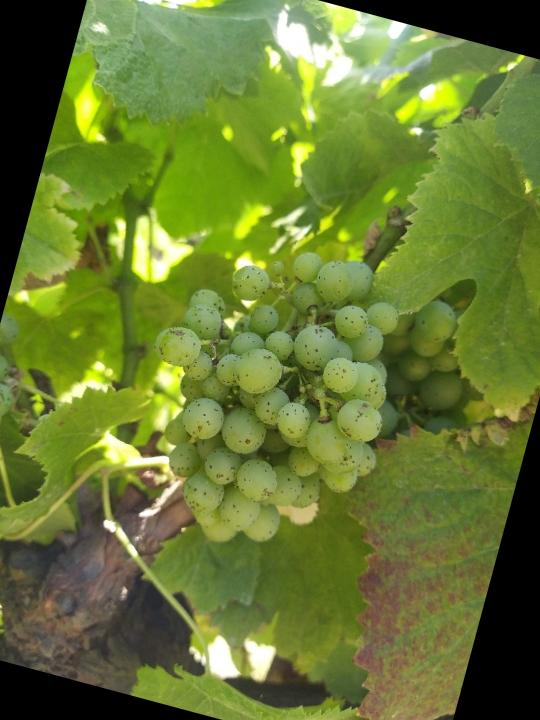grape: (108, 214, 429, 579)
